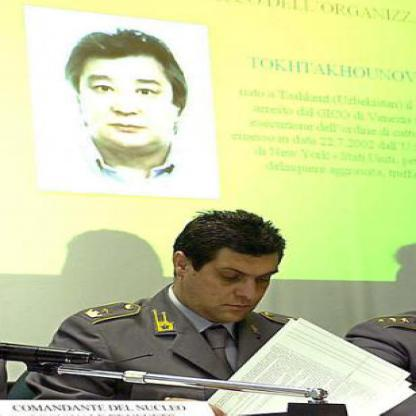face: (82, 35, 182, 151), (191, 219, 283, 325)
